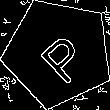P_NW: (28, 22, 89, 84)
